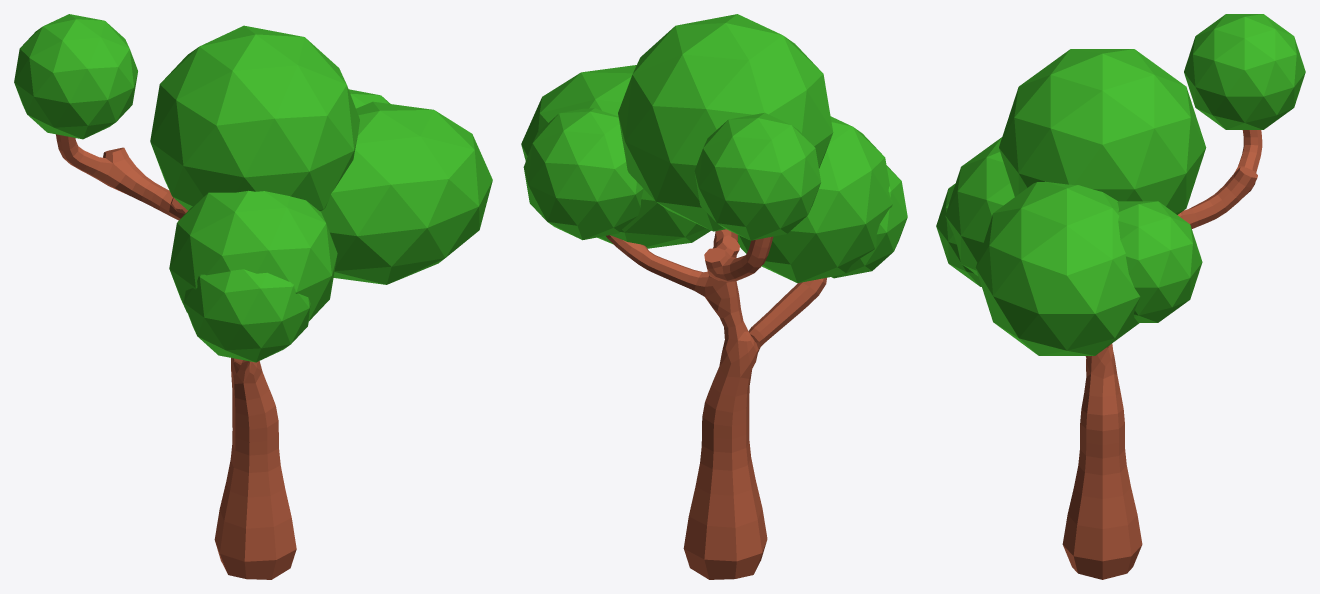
The model's file is TreeV2.fbx.
3 renders of one model, left to right at view 1: azimuth 30°, elevation 25°; view 2: azimuth 150°, elevation 25°; view 3: azimuth 270°, elevation 25°, orthographic. The views are drawn at different scales.
Visible parts, largest first — view 1: Tree; view 2: Tree; view 3: Tree.
Part boxes in pixels (x1=…): Tree: x1=14, y1=14, x2=492, y2=579; Tree: x1=521, y1=14, x2=907, y2=579; Tree: x1=936, y1=14, x2=1305, y2=579.
Size of the model in its own units: 835 by 1196 by 768.
